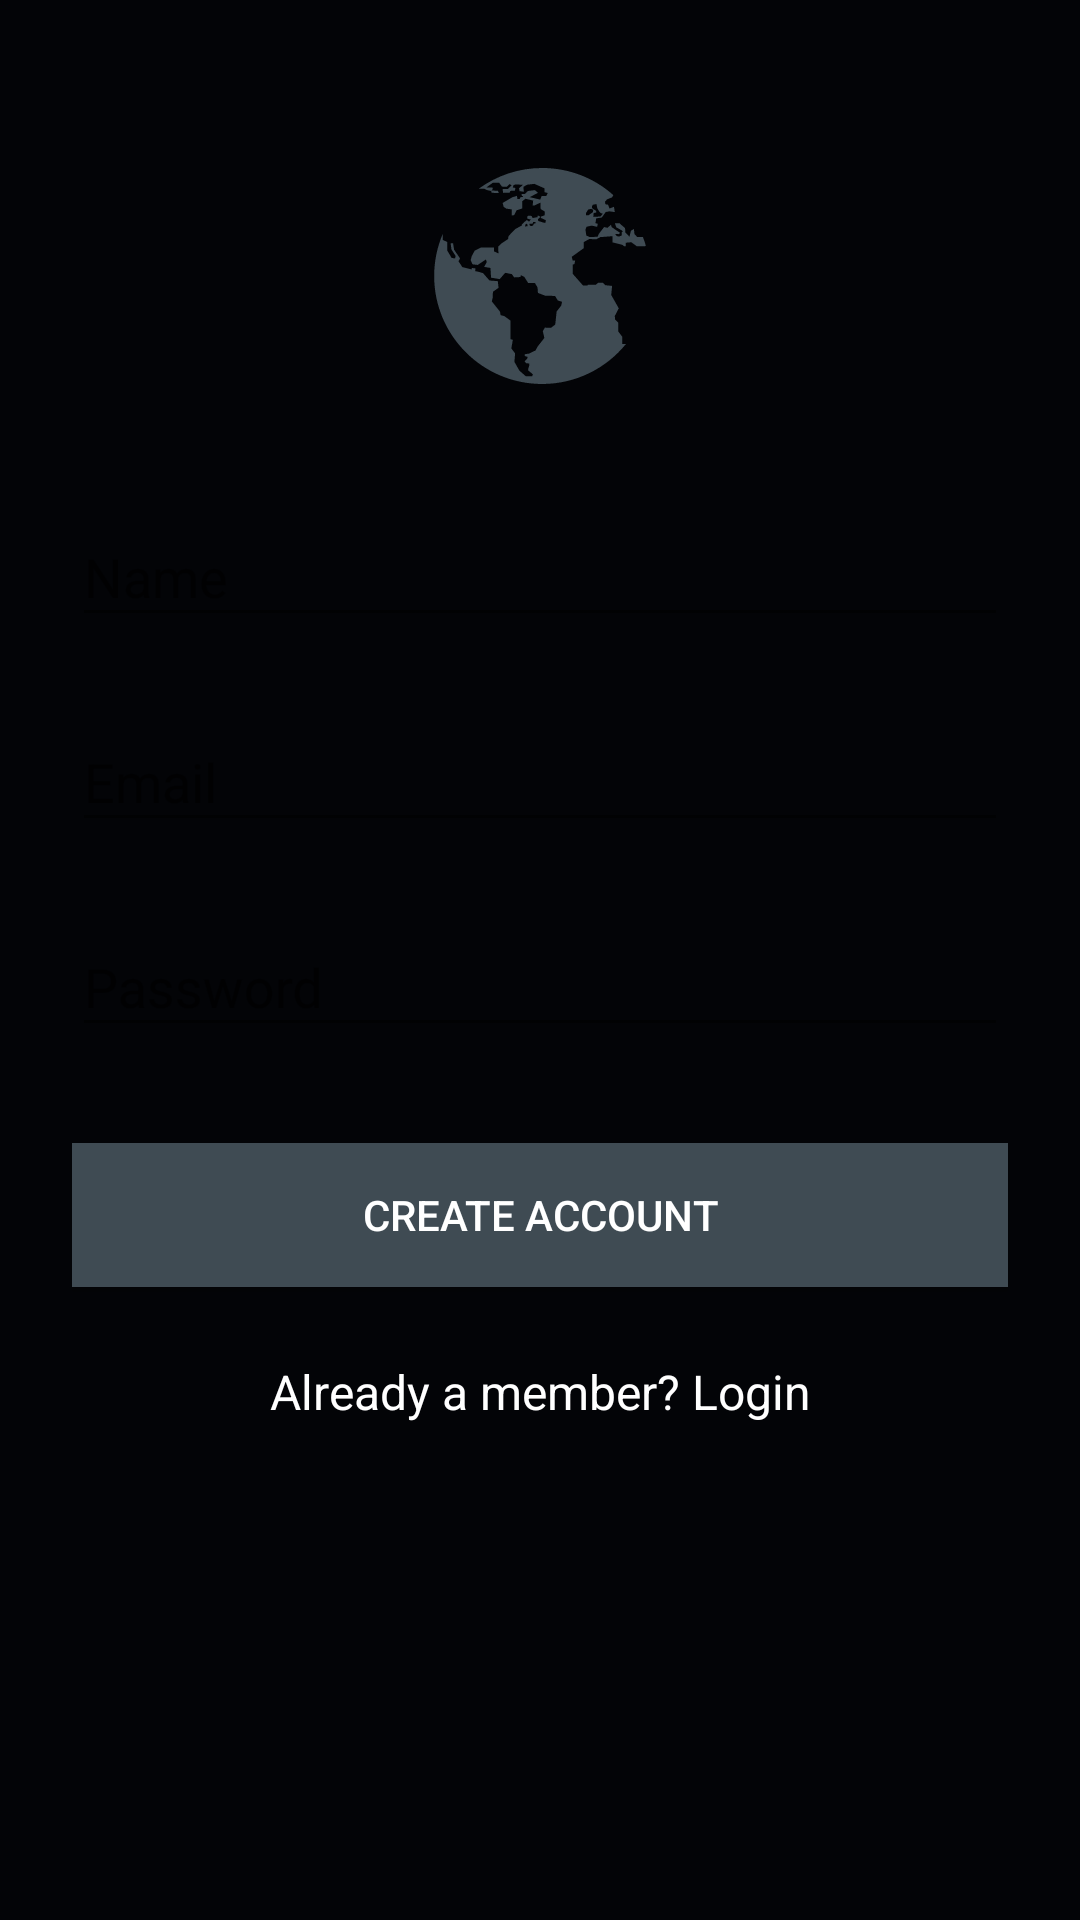

Where to tap for icons on this 1080*1920 app screen, as (x=x, y=y):
earth: (x=540, y=276)
